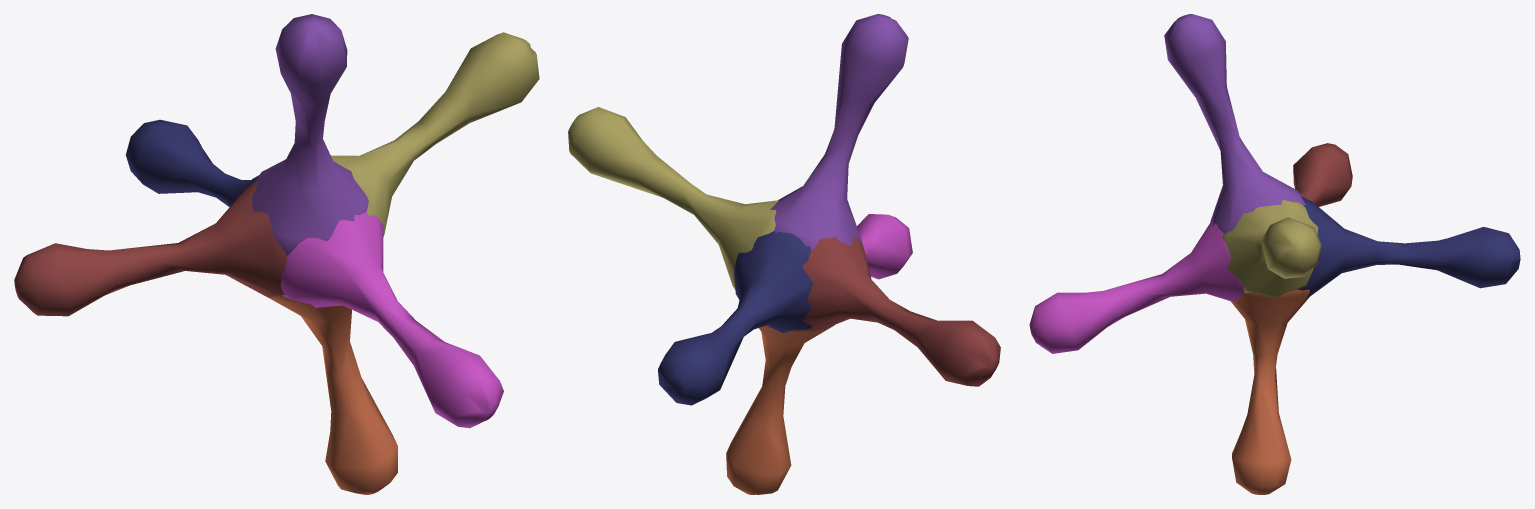
The model's file is weather-node.dae.
3 renders of one model, left to right at view 1: azimuth 30°, elevation 25°; view 2: azimuth 150°, elevation 25°; view 3: azimuth 270°, elevation 25°, orthographic. The views are drawn at different scales.
Parts seen in each view (by area): view 1: Stem4, Stem1, Stem6, Stem5, Stem3, Stem2; view 2: Stem6, Stem2, Stem1, Stem5, Stem3, Stem4; view 3: Stem6, Stem4, Stem2, Stem3, Stem5, Stem1.
Part boxes in pixels (x1=…): Stem4: x1=280, y1=212, x2=503, y2=428; Stem1: x1=14, y1=181, x2=287, y2=316; Stem6: x1=252, y1=14, x2=368, y2=255; Stem5: x1=331, y1=32, x2=539, y2=236; Stem3: x1=269, y1=295, x2=397, y2=494; Stem2: x1=126, y1=119, x2=258, y2=206; Stem6: x1=770, y1=14, x2=908, y2=250; Stem2: x1=658, y1=231, x2=813, y2=405; Stem1: x1=802, y1=237, x2=1000, y2=386; Stem5: x1=568, y1=107, x2=778, y2=289; Stem3: x1=726, y1=324, x2=835, y2=494; Stem4: x1=857, y1=214, x2=912, y2=279; Stem6: x1=1164, y1=14, x2=1305, y2=233; Stem4: x1=1029, y1=218, x2=1244, y2=353; Stem2: x1=1297, y1=196, x2=1520, y2=297; Stem3: x1=1230, y1=289, x2=1309, y2=494; Stem5: x1=1222, y1=200, x2=1321, y2=297; Stem1: x1=1293, y1=143, x2=1352, y2=206.
Bounding box in the file's own units: 59.52 × 60.4 × 61.4.
